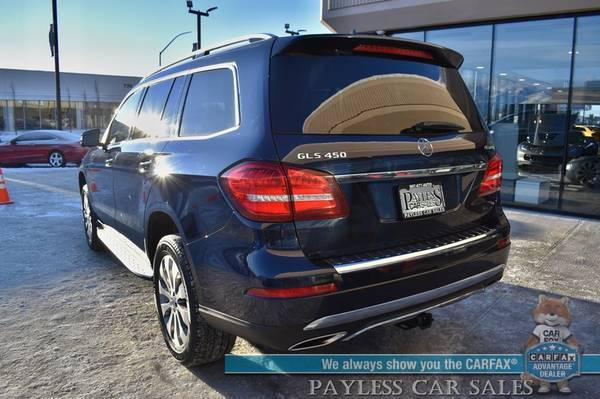Front_Left_Door: (90, 143, 120, 228)
Front_Left_Window: (97, 88, 142, 145)
Left_Taillight: (218, 161, 348, 223)
Rear_Bumper: (185, 197, 510, 344)
Rear_Fender: (145, 64, 276, 240)
Rear_Left_Door: (115, 139, 170, 254)
Rear_Left_Window: (123, 77, 188, 141)
Rear_Windshield: (269, 44, 484, 138)
Right_Taillight: (476, 149, 503, 195)
Roof: (132, 30, 465, 130)
Tailgate: (269, 130, 495, 257)
Wheel: (151, 234, 236, 367)
